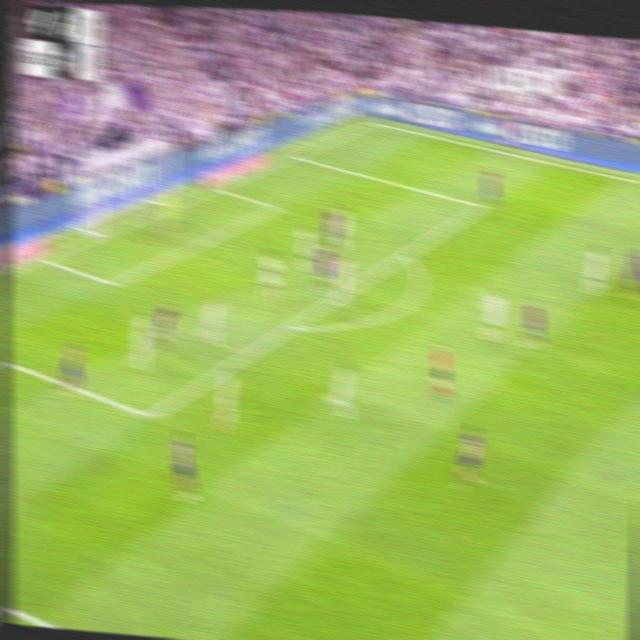bigarea_bottom_inner: (141, 403, 159, 431)
bigarea_top_outter: (287, 146, 303, 163)
bottom_arc_area_intersection: (282, 315, 300, 338)
corner: (365, 116, 381, 129)
smallarea_top_inner: (268, 197, 283, 216)
top_arc_area_intersection: (396, 244, 414, 264)
